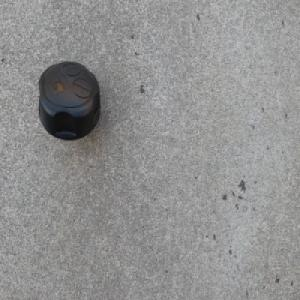FuelCap: (37, 59, 101, 142)
